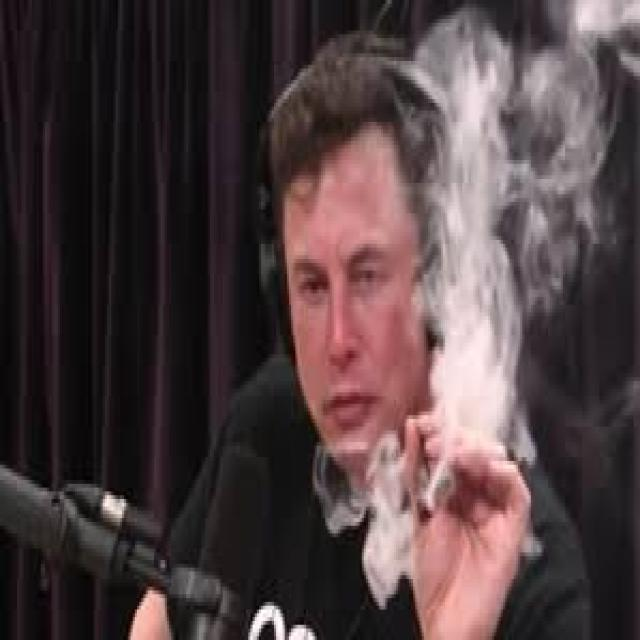Smoke: (310, 0, 640, 611)
